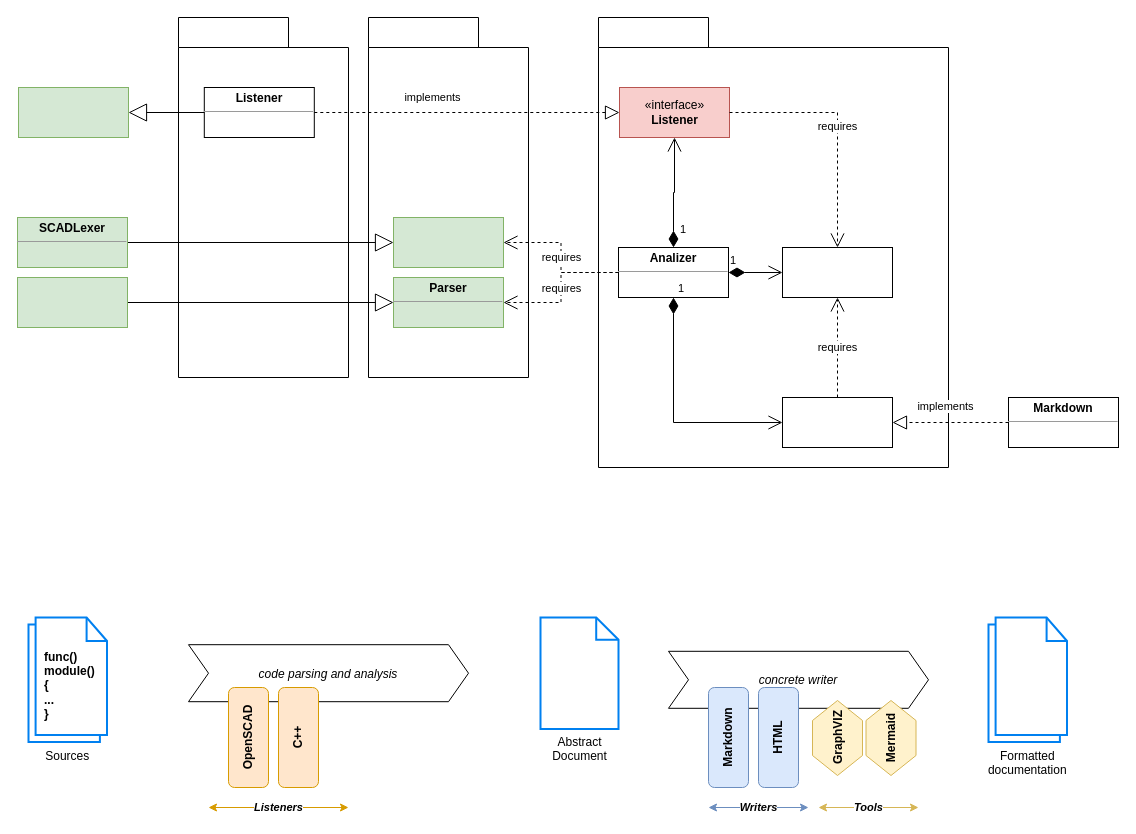
Image size: 1136x834. Some labels were removed from this diagram. The shapes that lost their labels are listed below. From the top down, each one's box as (x1, y1, x2, y2) in pixels, then its label:
(18, 86, 128, 138): SCADBaseListener
(178, 16, 348, 378): scad
(368, 16, 528, 378): antlr4
(392, 216, 504, 268): Lexer
(598, 16, 948, 468): orthodocs
(782, 246, 892, 298): Document
(16, 276, 128, 328): SCADParser
(782, 396, 892, 448): «interface» Writer
